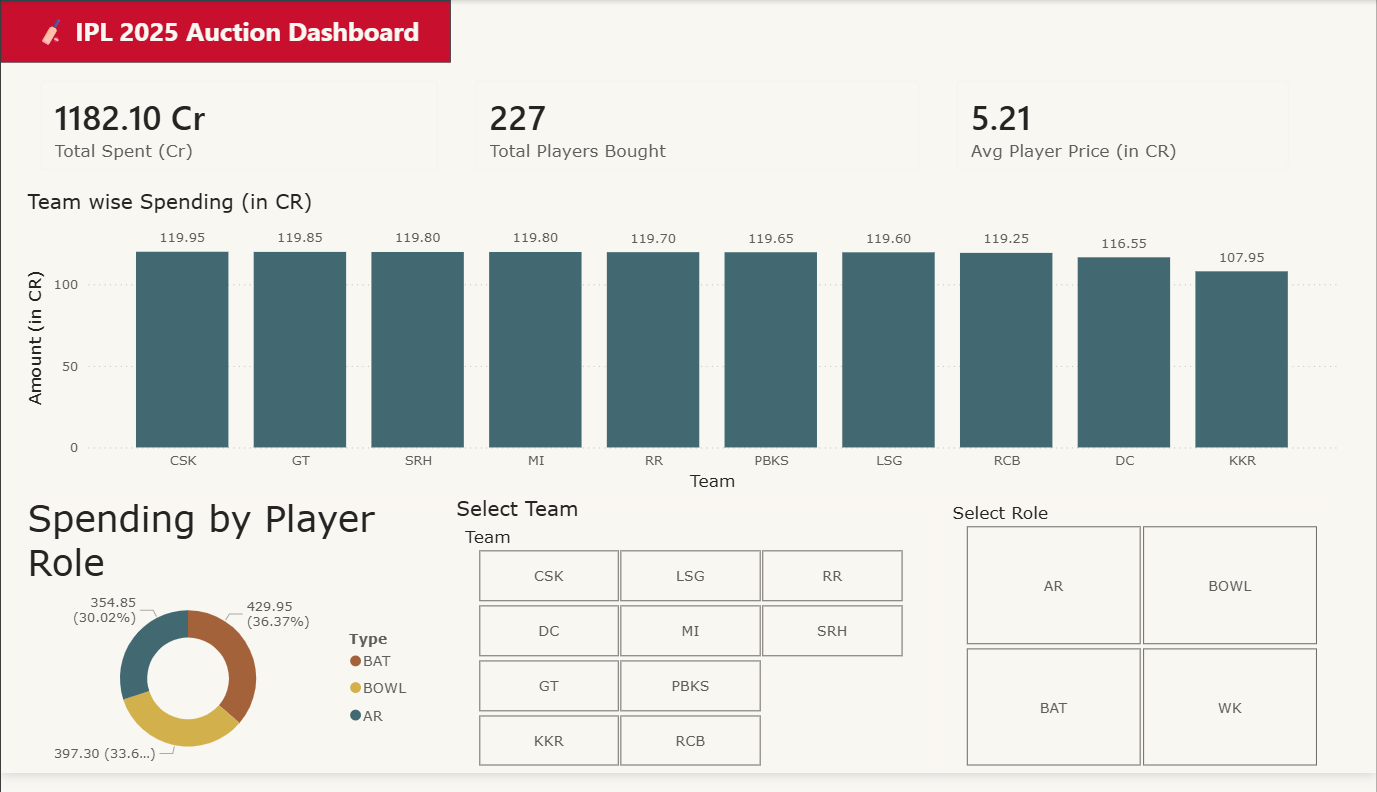

What the dashboard file says about the page in this screenshot:
{"tool":"powerbi","page":{"name":"Auction Overview","canvas":[1280,720],"ordinal":0},"visuals":[{"type":"cardVisual","fields":{"Data":["ipl_2025_auction_players.Total Players Bought"]},"box":[424.4,58.1,447.7,117.4],"z":0},{"type":"cardVisual","fields":{"Data":["ipl_2025_auction_players.Avg Player Price"]},"box":[872.1,58.1,343,117.4],"z":1000},{"type":"cardVisual","fields":{"Data":["ipl_2025_auction_players.Total Spent Display"]},"box":[19.8,58.1,404.7,117.4],"z":2000},{"type":"clusteredColumnChart","title":"Team wise Spending (in CR)","fields":{"Category":["ipl_2025_auction_players.Team"],"Y":["Sum(ipl_2025_auction_players.Sold)"]},"box":[19.8,175.6,1227.9,286],"z":3000},{"type":"donutChart","title":"Spending by Player Role","fields":{"Category":["ipl_2025_auction_players.Type"],"Y":["Sum(ipl_2025_auction_players.Sold)"]},"box":[19.7,462,371.8,257.7],"z":4000},{"type":"slicer","title":"Select Team","fields":{"Values":["ipl_2025_auction_players.Team"]},"box":[418.3,462,443.7,257.7],"z":5000},{"type":"slicer","title":"Select Role","fields":{"Values":["ipl_2025_auction_players.Type"]},"box":[871.8,462,376.1,257.7],"z":6000},{"type":"textbox","box":[19.7,0,350.7,36.6],"z":7000},{"type":"shape","box":[0,0,418.6,58.1],"z":8000}]}

Visuals, with their boxes in screenshot pixels (x1, y1, x2, y2), scaled from the page's 1280x720 canvas onto the 1377x792 screenshot:
cardVisual - ipl_2025_auction_players.Total Players Bought: pyautogui.locateOnScreen(457, 64, 938, 193)
cardVisual - ipl_2025_auction_players.Avg Player Price: pyautogui.locateOnScreen(938, 64, 1307, 193)
cardVisual - ipl_2025_auction_players.Total Spent Display: pyautogui.locateOnScreen(21, 64, 457, 193)
"Team wise Spending (in CR)" clusteredColumnChart: pyautogui.locateOnScreen(21, 193, 1342, 508)
"Spending by Player Role" donutChart: pyautogui.locateOnScreen(21, 508, 421, 791)
"Select Team" slicer: pyautogui.locateOnScreen(450, 508, 927, 791)
"Select Role" slicer: pyautogui.locateOnScreen(938, 508, 1342, 791)
textbox: pyautogui.locateOnScreen(21, 0, 398, 40)
shape: pyautogui.locateOnScreen(0, 0, 450, 64)
